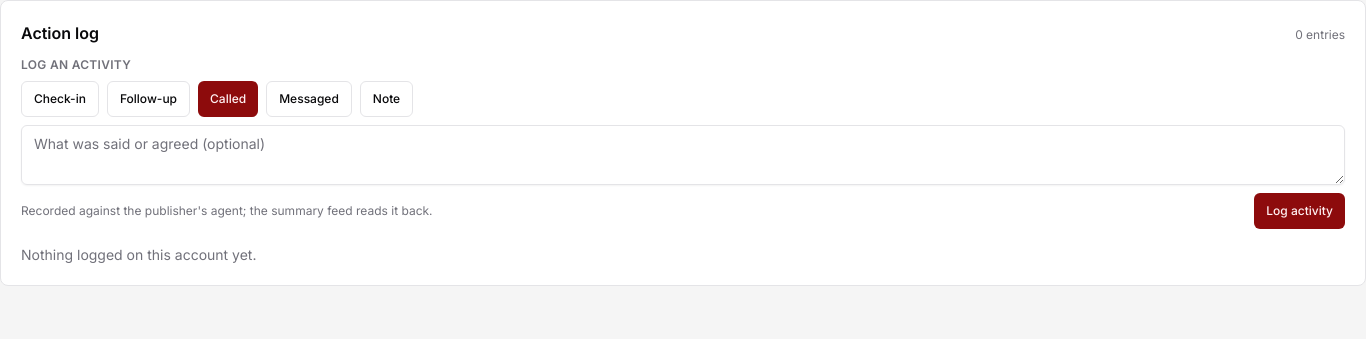
Test: PublisherActivityLog › logs an activity: the kind and the trimmed note go up, the list re-reads, the page is told
The image size is (1366, 339).
expect the text "Nothing logged on this account yet." is shown: met, box [21,246,256,263]
Step 1. Click the radio button labelled "Messaged" → point(309, 99), box [266,81,352,117]
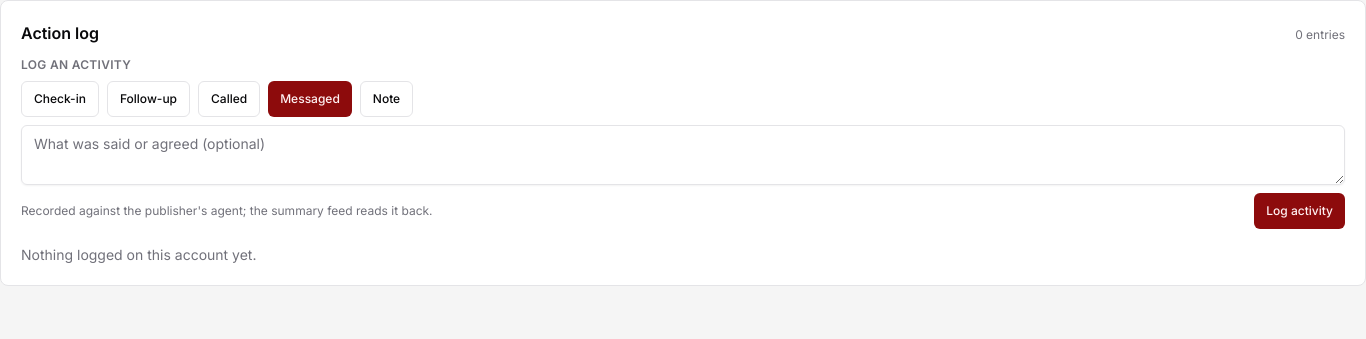
Step 2. Type "  Sent the rate card on WhatsApp  " into the text box named "Note" → point(683, 155), box [21,125,1345,185]
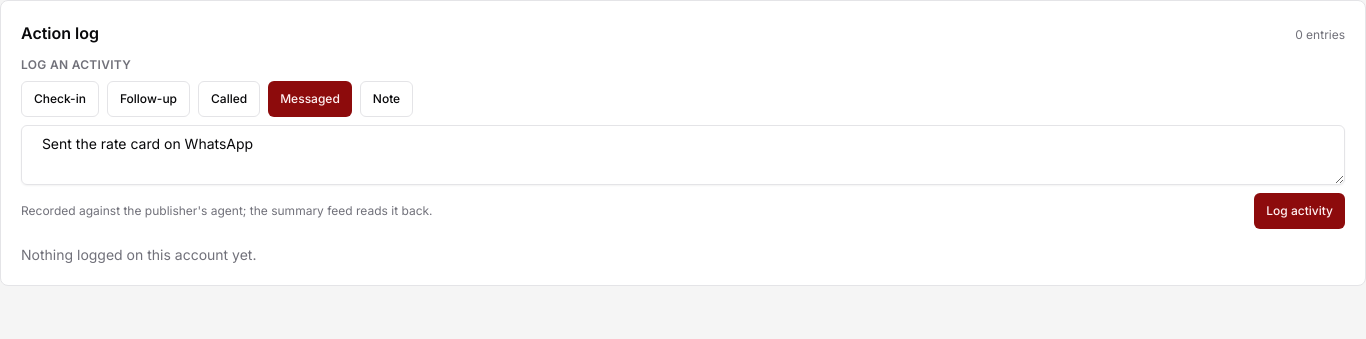
Step 3. Click the button "Log activity" → point(1300, 211), box [1254,193,1345,229]
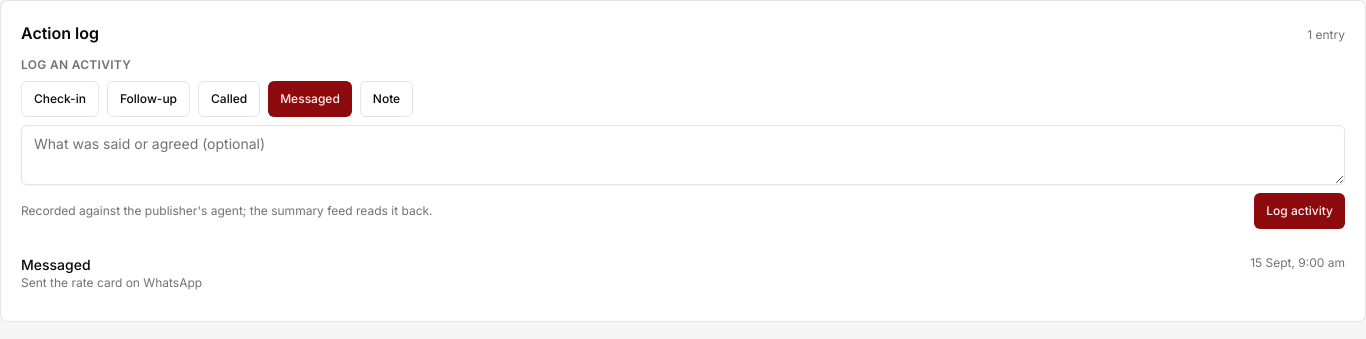
expect the text "Sent the rate card on WhatsApp" is shown: met, box [21,275,202,291]
expect the text box named "Note" is empty: met, box [21,125,1345,185]
